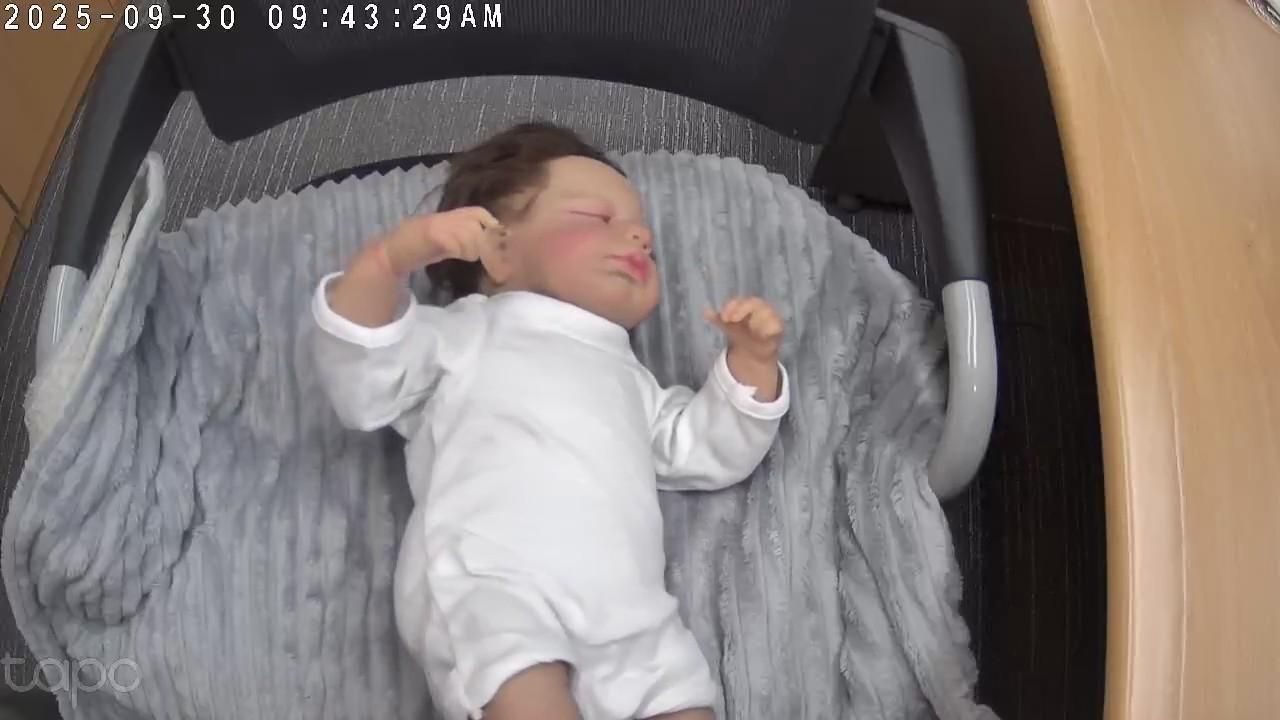hand: (703, 296, 784, 357), (418, 205, 503, 262)
